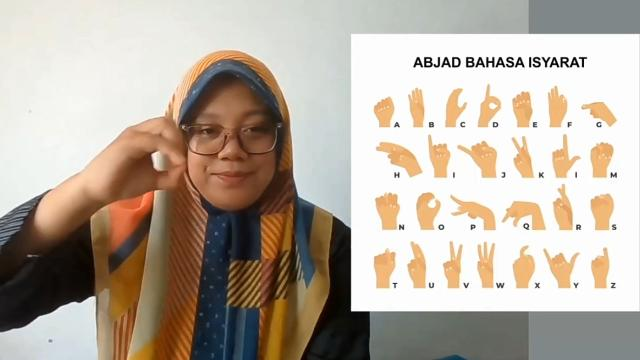O: (86, 112, 188, 210)
